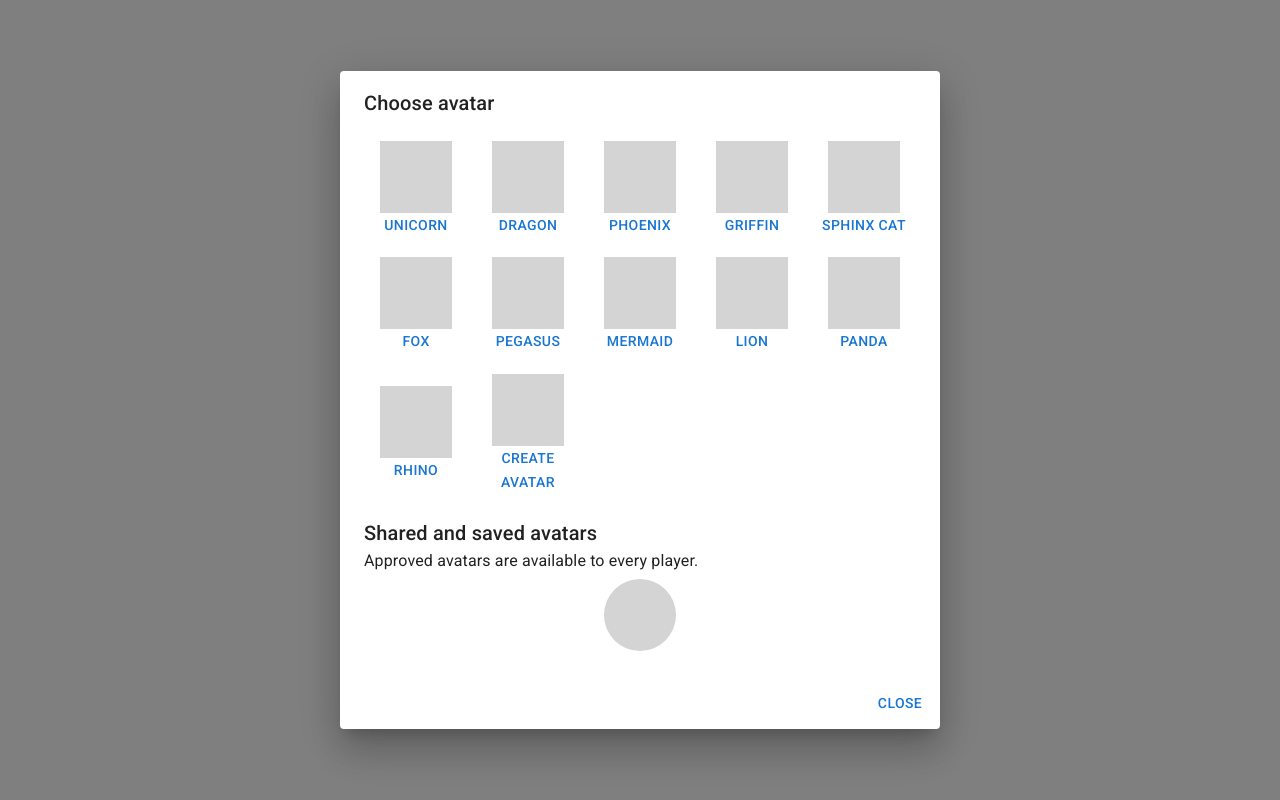
Test: does not offer deletion for an approved avatar owned by another account
Click the button named "Saved avatar 10".
click(640, 615)  # box 364,573 -> 916,657
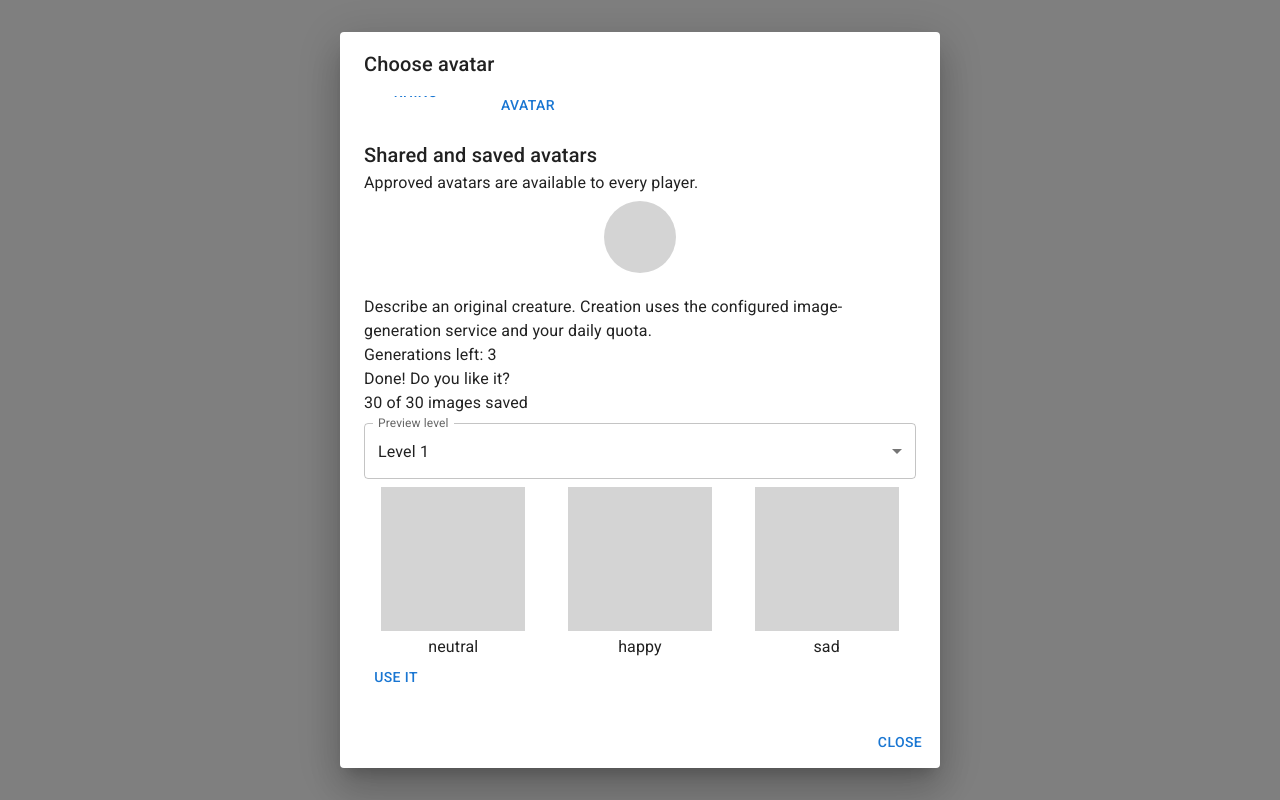
Expected: the text "Approved avatars are available to every player." is shown, 364,173 -> 698,192
Expected: the button "Use it" is enabled, 364,659 -> 428,696
